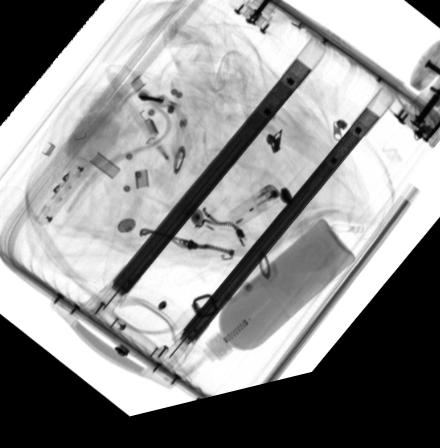Lighter: (227, 197, 282, 239)
